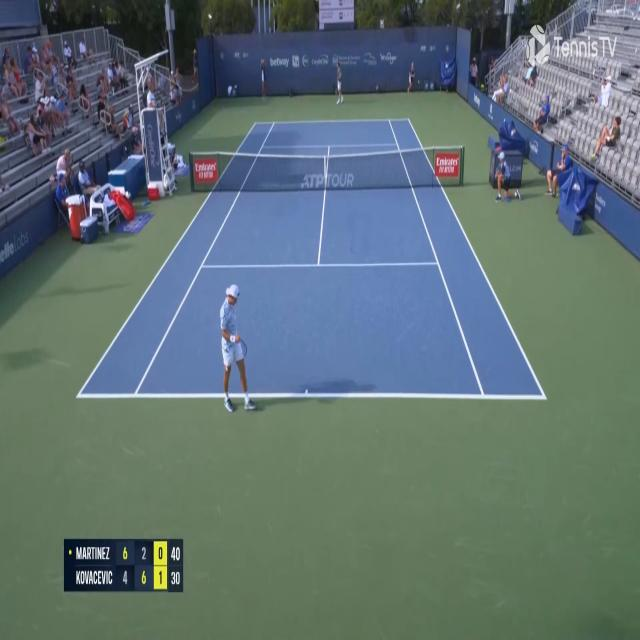tennis-player: (220, 282, 260, 417), (332, 58, 345, 106)
